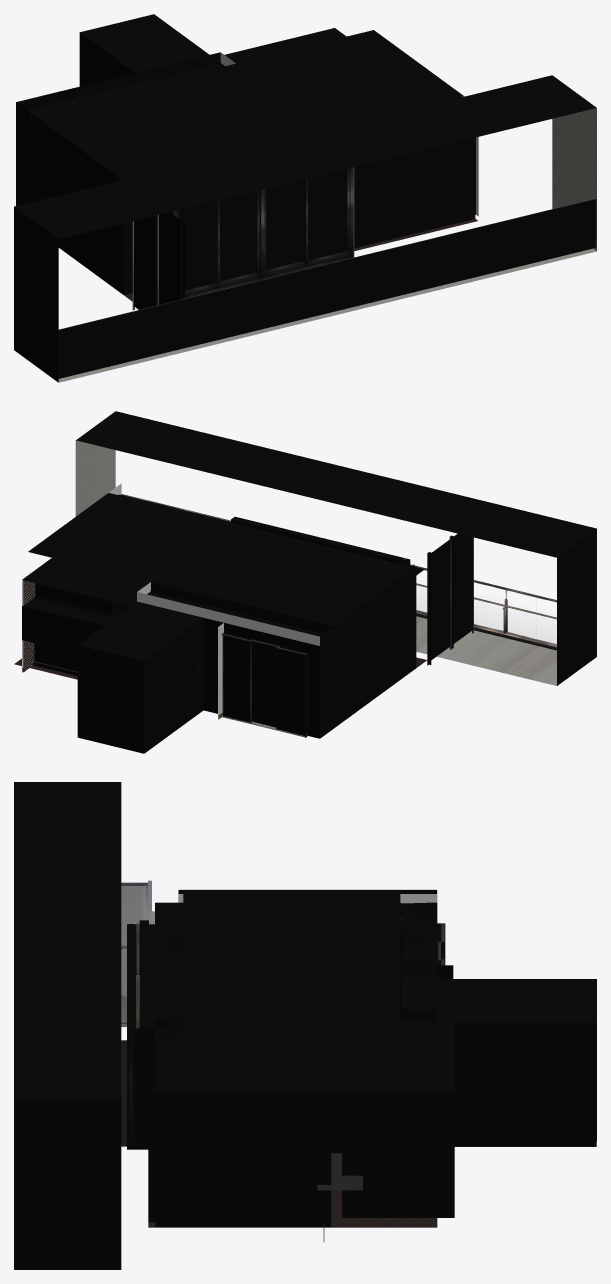
Rendered from apartment.glb.
3 views of the same model, one above another, from view 1: azimuth 30°, elevation 25°; view 2: azimuth 150°, elevation 25°; view 3: azimuth 270°, elevation 25° (orthographic). The views are drawn at different scales.
Visible parts, largest first — view 1: Material2 (×2), Material3 (×4); view 2: Material2 (×2), Material3 (×7); view 3: Material2 (×2), Material3 (×6).
Boxes of the visible parts, x1,y1,x2,y2 form: Material2 (×2): (14, 14, 596, 382); Material3 (×4): (31, 52, 596, 382); Material2 (×2): (22, 411, 596, 753); Material3 (×7): (14, 440, 556, 752); Material2 (×2): (14, 782, 596, 1269); Material3 (×6): (121, 880, 596, 1227).
Bounding box in the file's own units: 7349 × 1874 × 5740.
42 materials, 41 textured.
